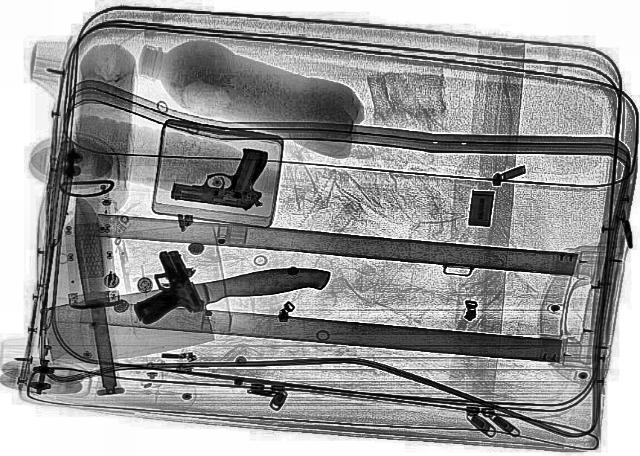Gun: (106, 246, 210, 326), (165, 138, 278, 210)
Knife: (30, 260, 348, 368), (64, 194, 126, 392), (31, 140, 77, 326)
